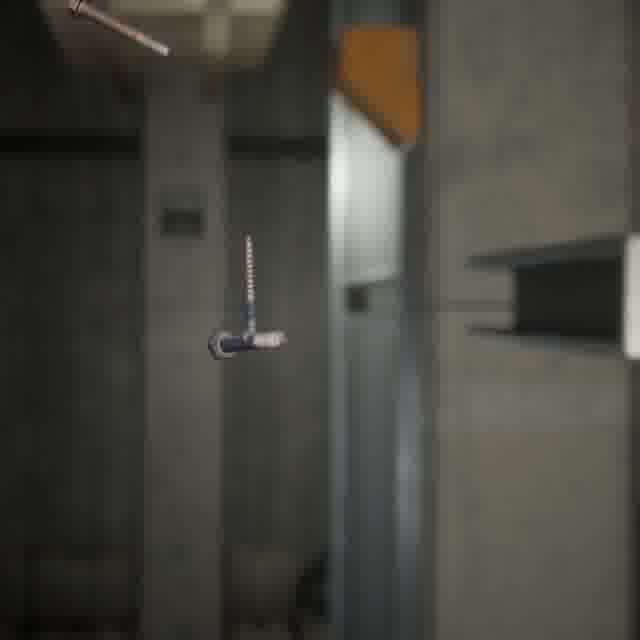bolt: (63, 0, 178, 64), (236, 231, 267, 345), (202, 325, 294, 363)
